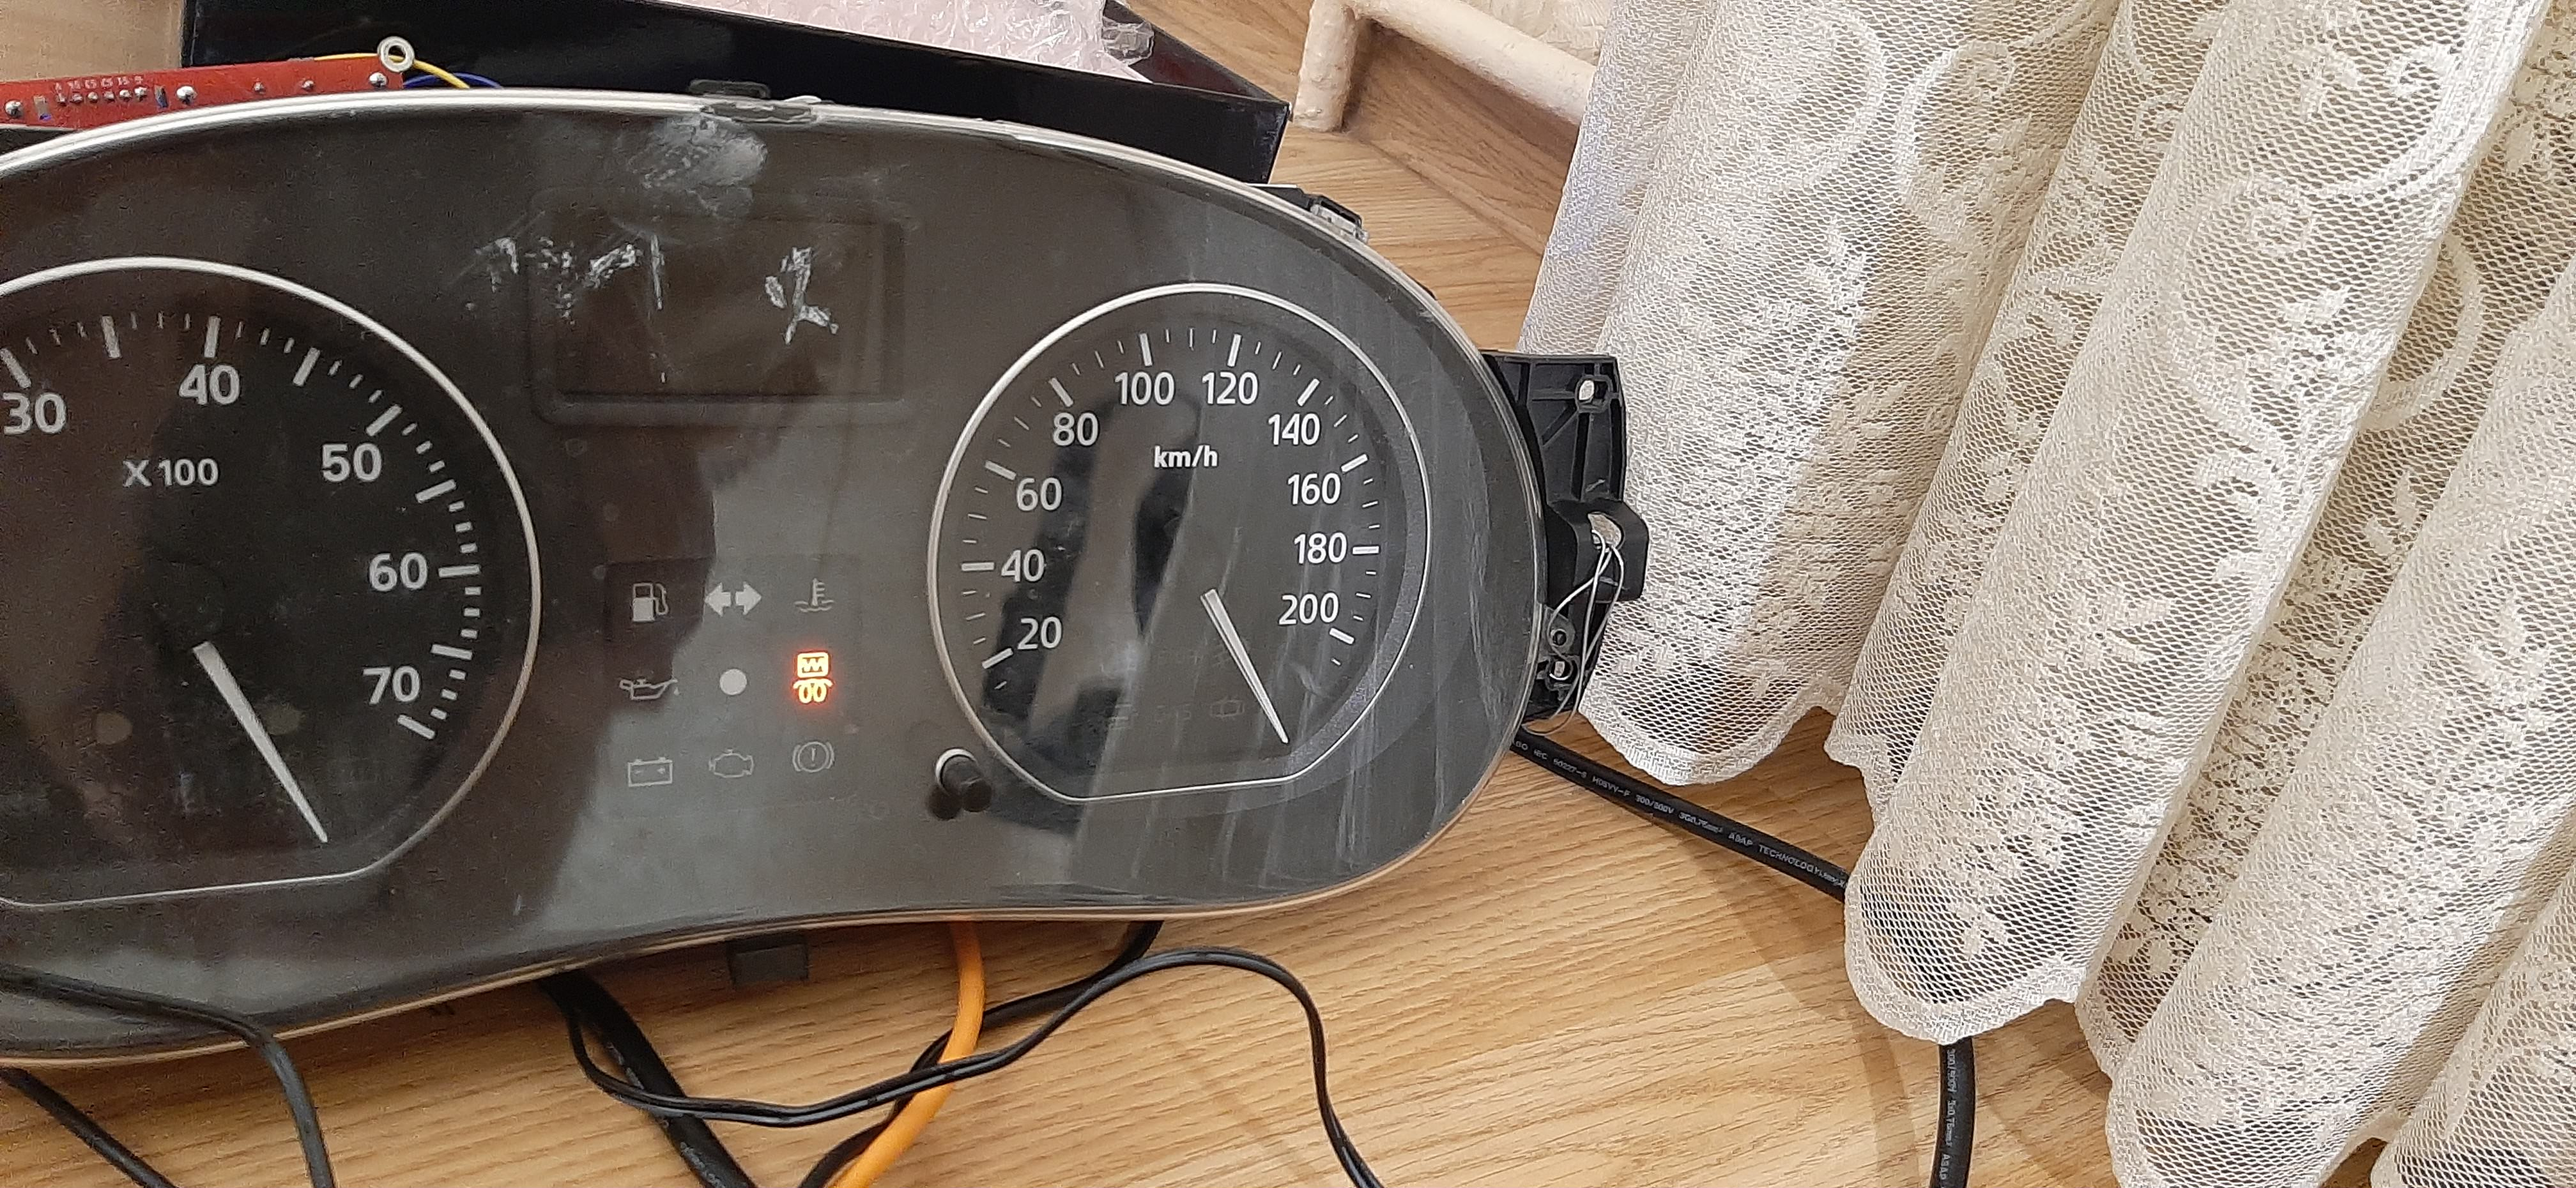diesel15: (790, 649, 835, 705)
